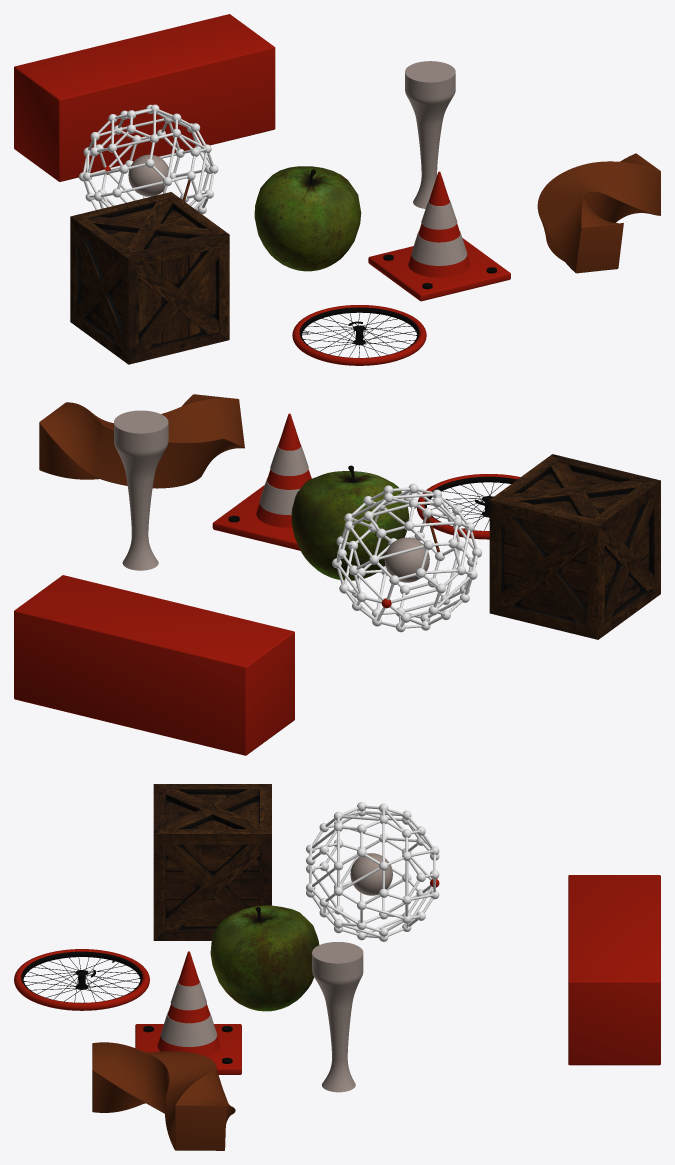
File: RandomObjects.fbx
The picture shows the model from 3 angles, top to bottom: view 1: azimuth 30°, elevation 25°; view 2: azimuth 150°, elevation 25°; view 3: azimuth 270°, elevation 25°; orthographic projection. The views are drawn at different scales.
Parts seen in each view (by area): view 1: Cube_1, Object_4, Cube, GreenApple_phong3_0, Cylinder, Cone, Cube_2, front_wheel, front_tire, center; view 2: Cube_1, Object_4, Cube, GreenApple_phong3_0, Cylinder, Cone, Cube_2, center, front_wheel, front_tire; view 3: Cube_1, Object_4, Cube, GreenApple_phong3_0, Cylinder, Cone, front_wheel, front_tire, Cube_2, center.
Part boxes in pixels (bbox=[...]): Cube_1: bbox=[14, 14, 275, 181]; Object_4: bbox=[70, 192, 229, 364]; Cube: bbox=[537, 153, 660, 273]; GreenApple_phong3_0: bbox=[254, 166, 361, 271]; Cylinder: bbox=[405, 61, 455, 208]; Cone: bbox=[408, 171, 470, 277]; Cube_2: bbox=[368, 238, 510, 301]; front_wheel: bbox=[299, 307, 419, 357]; front_tire: bbox=[292, 305, 426, 365]; center: bbox=[128, 154, 170, 196]; Cube_1: bbox=[14, 575, 294, 755]; Object_4: bbox=[489, 454, 660, 639]; Cube: bbox=[39, 394, 244, 488]; GreenApple_phong3_0: bbox=[291, 465, 409, 580]; Cylinder: bbox=[114, 410, 168, 570]; Cone: bbox=[256, 413, 311, 527]; Cube_2: bbox=[212, 485, 300, 550]; center: bbox=[384, 537, 429, 582]; front_wheel: bbox=[424, 476, 517, 530]; front_tire: bbox=[417, 474, 520, 539]; Cube_1: bbox=[568, 875, 660, 1065]; Object_4: bbox=[153, 784, 271, 940]; Cube: bbox=[92, 1042, 235, 1150]; GreenApple_phong3_0: bbox=[210, 905, 319, 1011]; Cylinder: bbox=[312, 942, 363, 1092]; Cone: bbox=[157, 951, 220, 1056]; front_wheel: bbox=[21, 951, 142, 1002]; front_tire: bbox=[14, 949, 149, 1010]; Cube_2: bbox=[135, 1024, 241, 1074]; center: bbox=[350, 853, 392, 895].
Bounding box in the file's own units: 119 × 30.06 × 121.
Materials: 6 (2 with a texture image).
